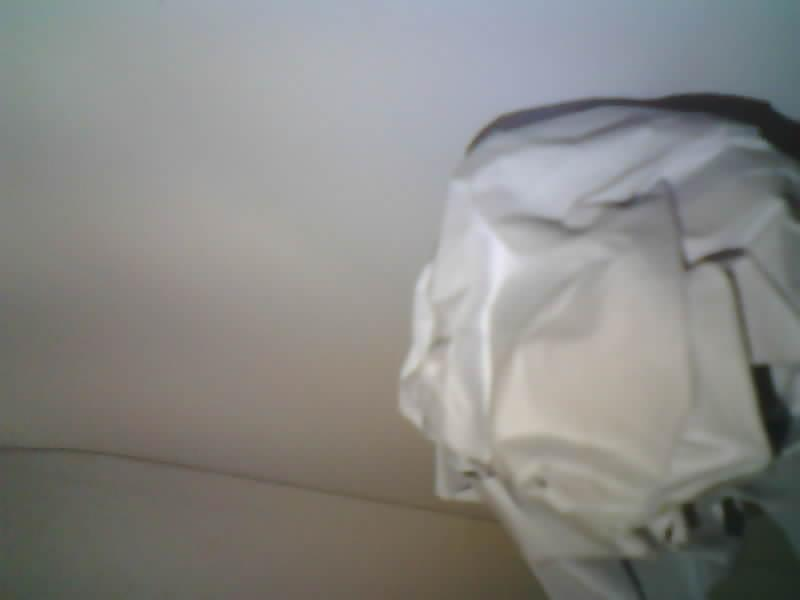biodegradable: (401, 107, 799, 563)
